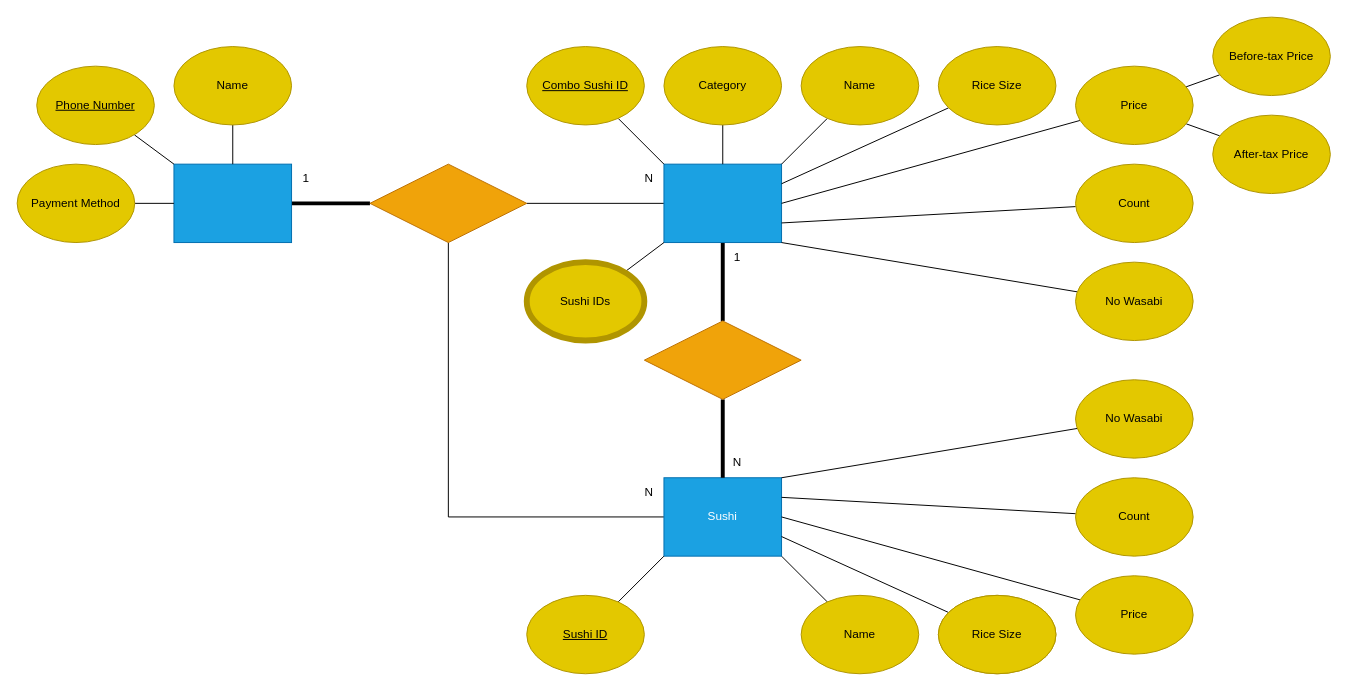
Image size: 1348x691. Some labels were removed from this diagram. The shapes that lost their labels are listed below. From the top down, each one's centre as x and y in pixels, then its label:
At (x=232, y=203): "Orderer".
At (x=448, y=203): "Orders".
At (x=722, y=203): "Combo Sushi".
At (x=722, y=359): "Contains".
